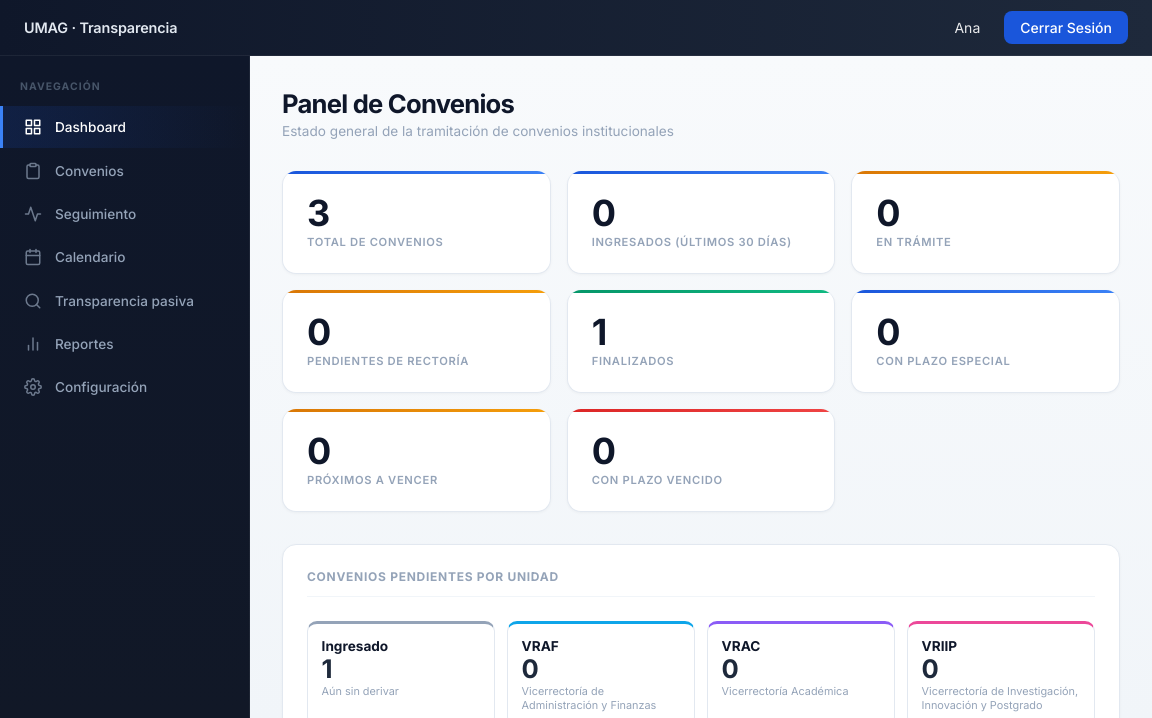
Test: filtros del listado de convenios › el filtro de la tarjeta también sobrevive al ir y volver de una ficha
The width and height of the screenshot is (1152, 718).
What coordinates should you click on to do the following:
click the text "Finalizados"
I would click on:
 (633, 361)
Its box is [592, 354, 674, 368].
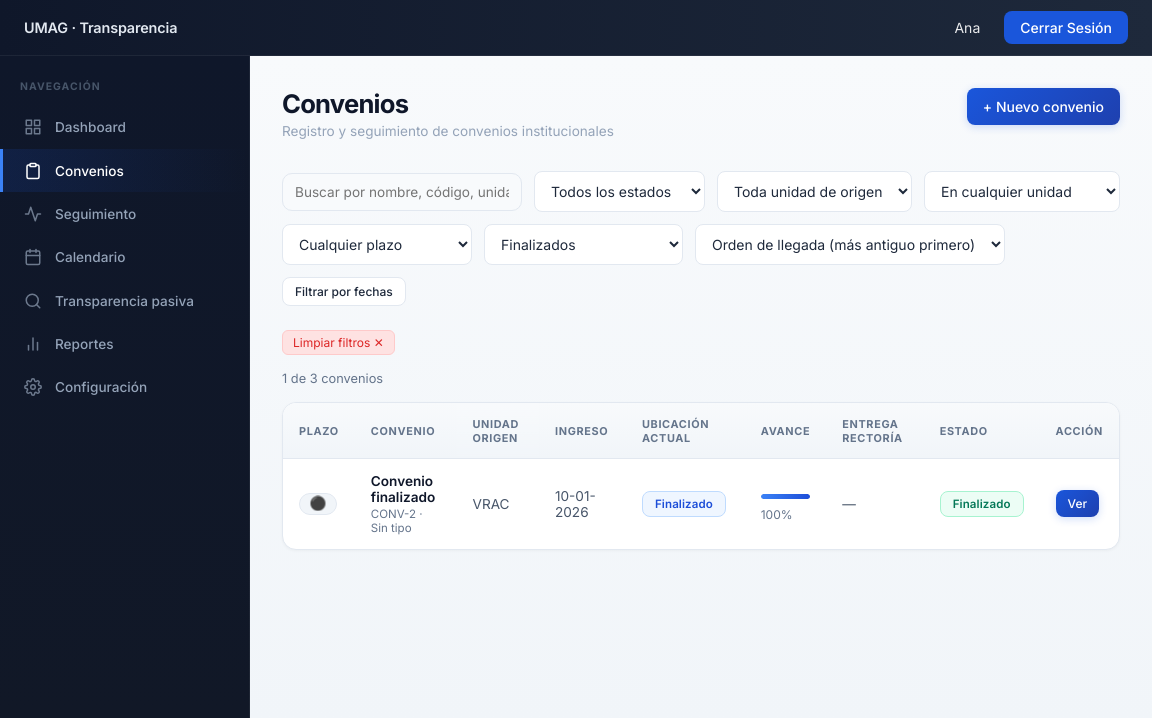
expect the field with placeholder "Buscar por nombre, código, unidad, contraparte..." is shown: met, box [282, 172, 522, 210]
What coordinates should you click on to do the following:
click the button "Ver"
I would click on:
 (1077, 504)
Its box is [1056, 490, 1099, 518].
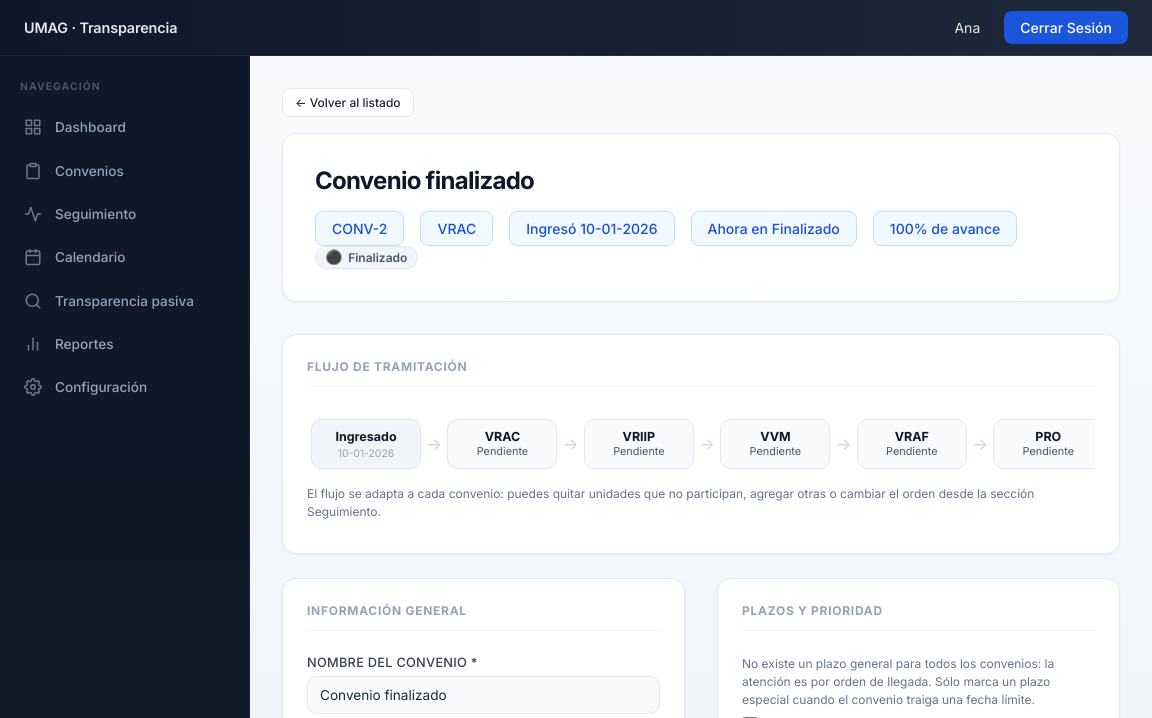
expect the heading "Flujo de tramitación" is shown: met, box [307, 360, 1095, 388]
What coordinates should you click on to do the following:
click the button "← Volver al listado"
I would click on:
 (348, 102)
Its box is [282, 88, 414, 117].
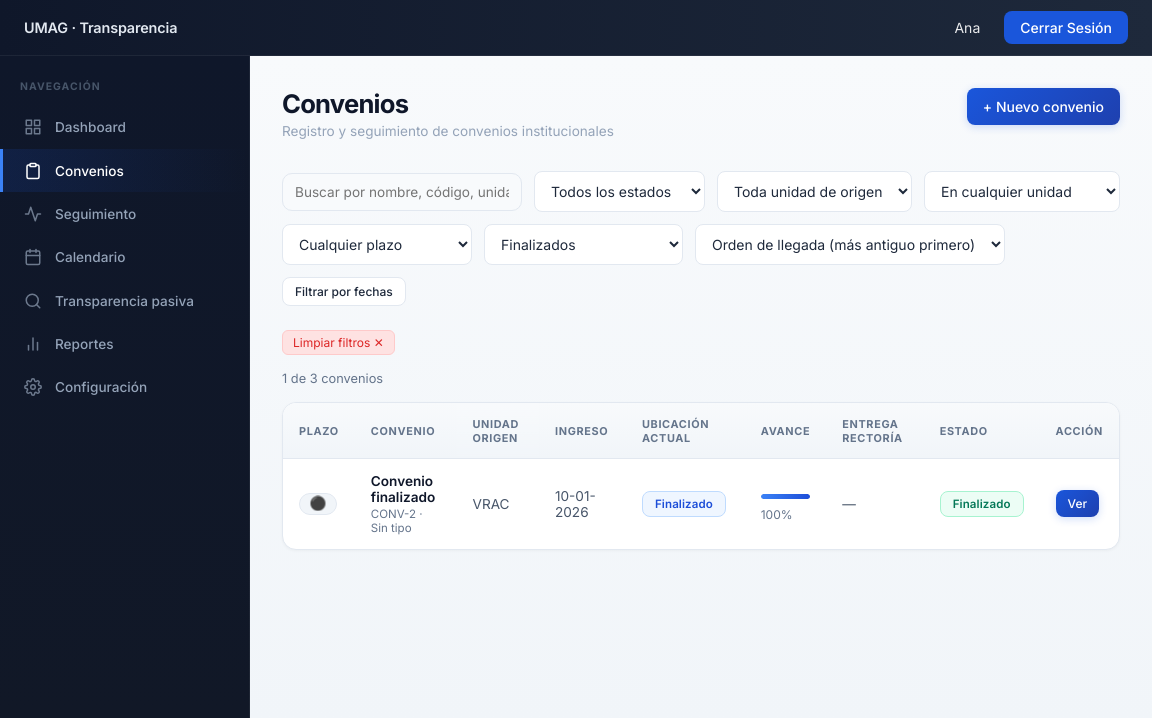
expect the field with placeholder "Buscar por nombre, código, unidad, contraparte..." is shown: met, box [282, 172, 522, 210]
expect the text "1 de 3 convenios" is shown: met, box [282, 371, 383, 386]
